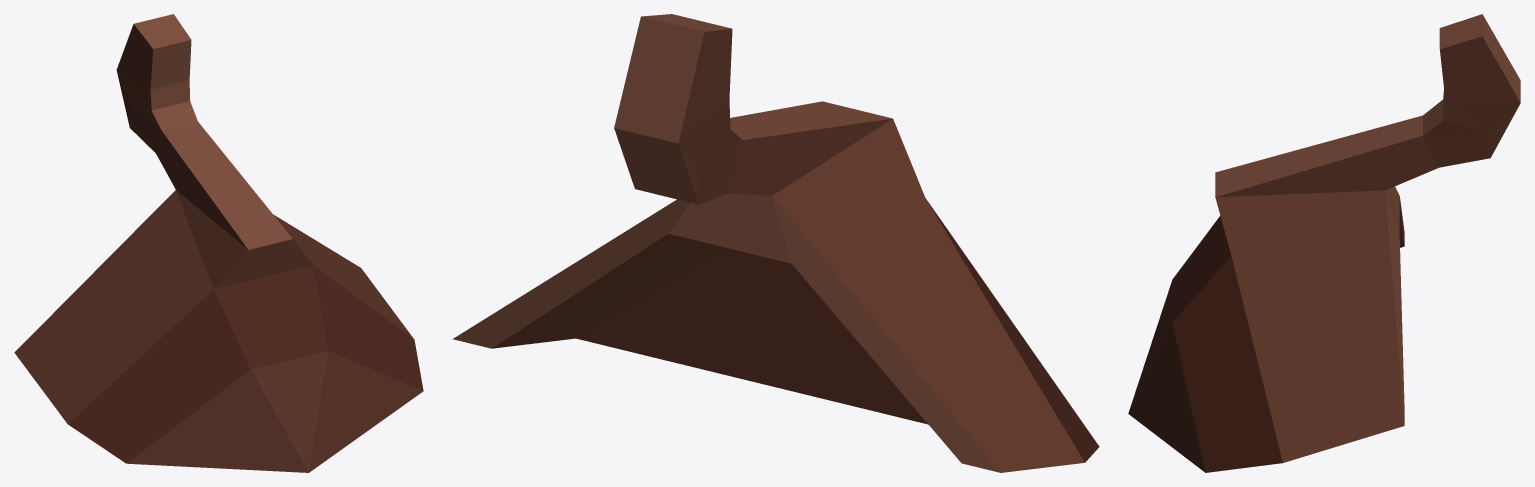
File: Wreckage_6.fbx
3 views of the same model, side by side, from view 1: azimuth 30°, elevation 25°; view 2: azimuth 150°, elevation 25°; view 3: azimuth 270°, elevation 25° (orthographic). The views are drawn at different scales.
Parts seen in each view (by area): view 1: Wreckage_6; view 2: Wreckage_6; view 3: Wreckage_6.
Part boxes in pixels (<box>): Wreckage_6: <box>14,14,423,472</box>; Wreckage_6: <box>452,14,1099,472</box>; Wreckage_6: <box>1128,14,1520,472</box>.
Bounding box in the file's own units: 16.99 × 15.94 × 14.59.
